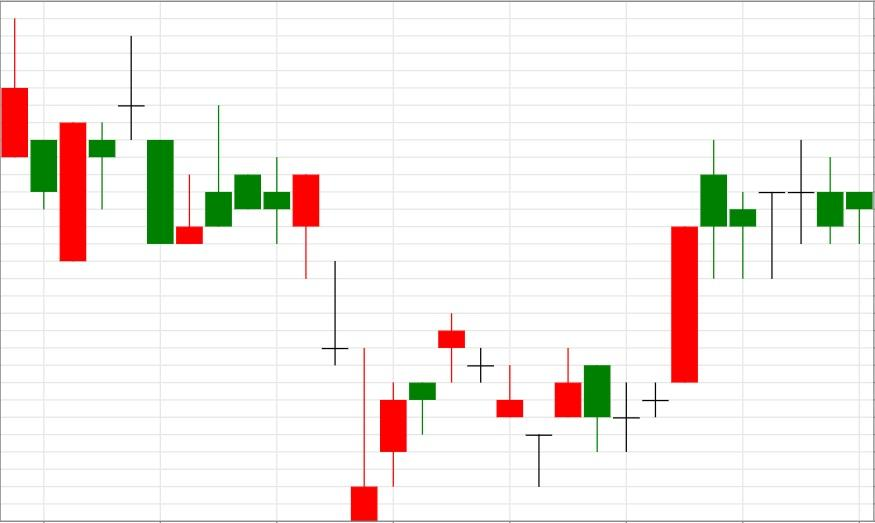bullish_engulfing_rise: (0, 19, 88, 262)
inverse_hammer_rise: (292, 172, 378, 523), (118, 36, 203, 245)
